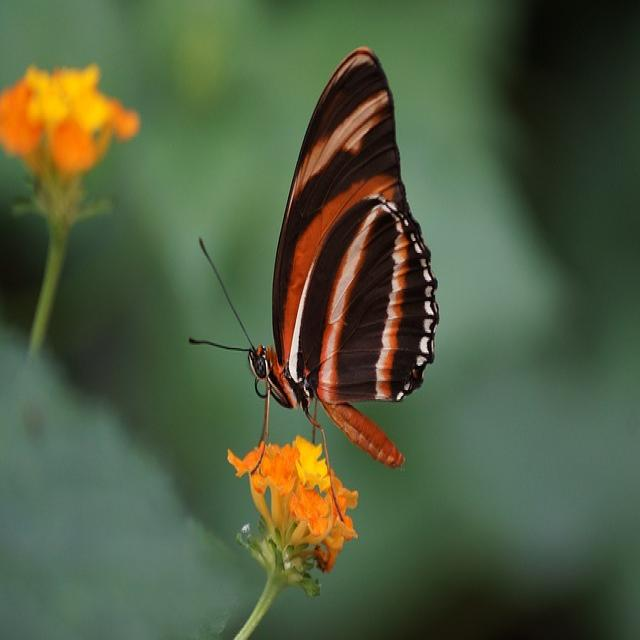butterfly: (249, 47, 439, 468)
